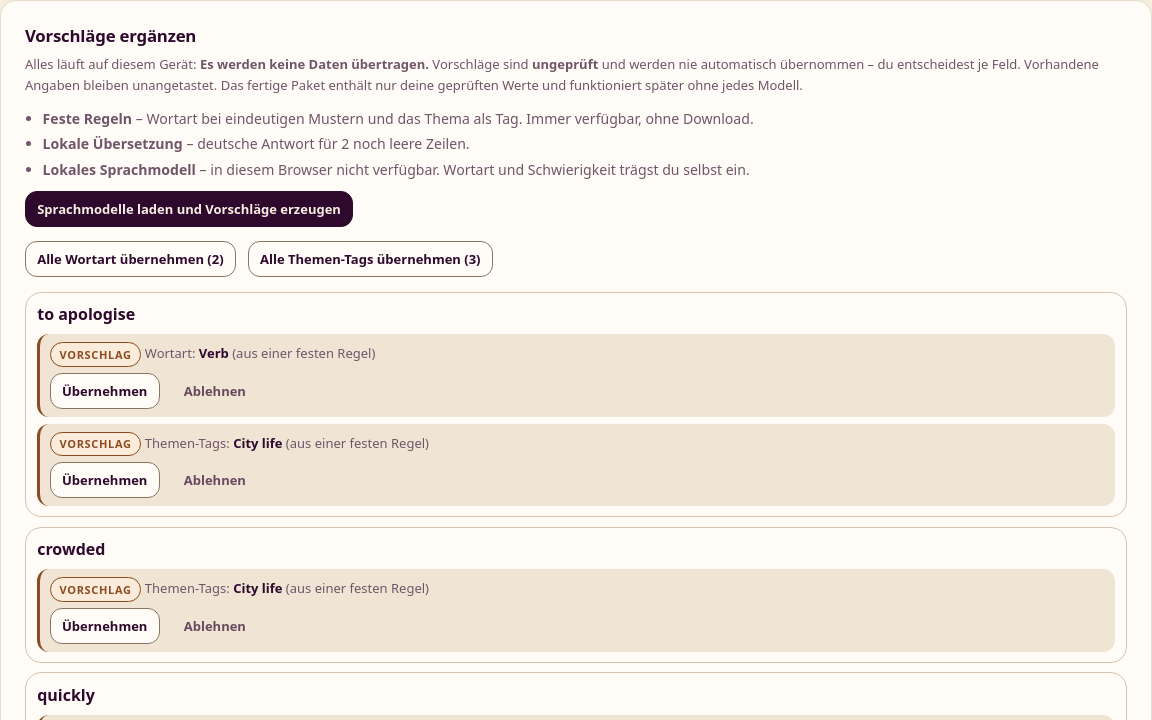
Verfügbarkeit ist nicht dasselbe wie ein erfülltes Promise › behauptet nicht, das andere Modell arbeite weiter, wenn es das nicht tut
Step 1. Click the button "Sprachmodelle laden und Vorschläge erzeugen" → click(189, 209), box left=25, top=191, right=353, bottom=227
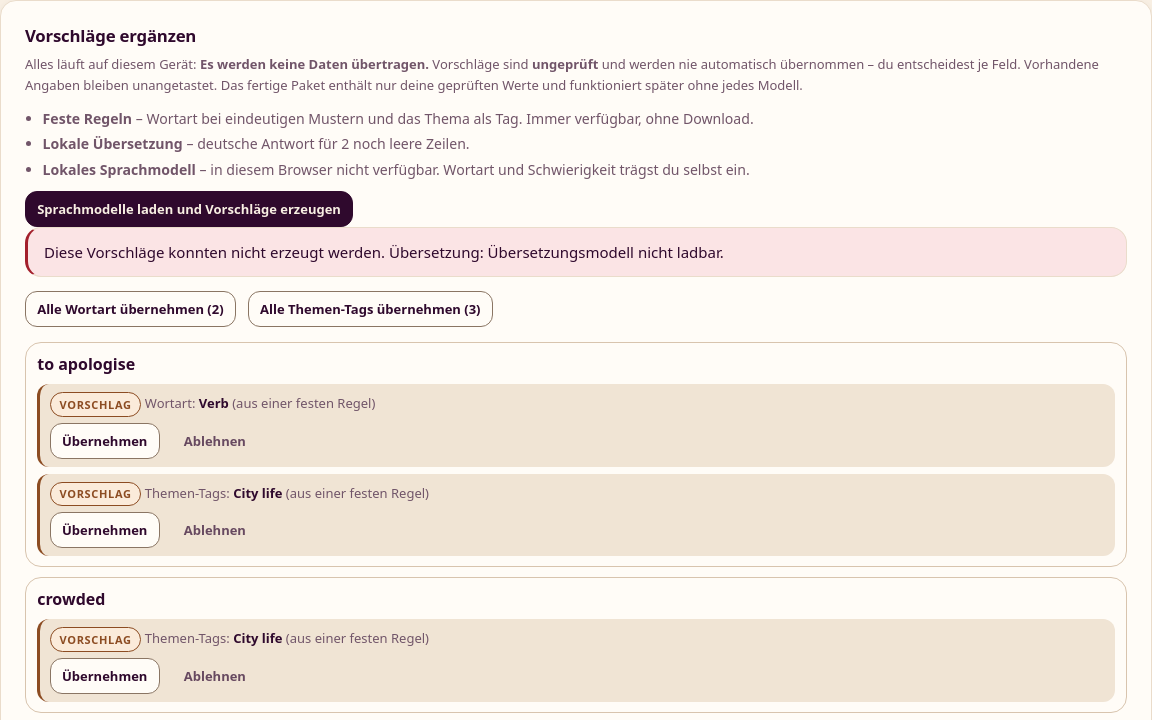
Expected: the message shows "Diese Vorschläge konnten nicht erzeugt werden", left=44, top=242, right=724, bottom=262
Expected: the message shows "Übersetzungsmodell nicht ladbar", left=44, top=242, right=724, bottom=262
